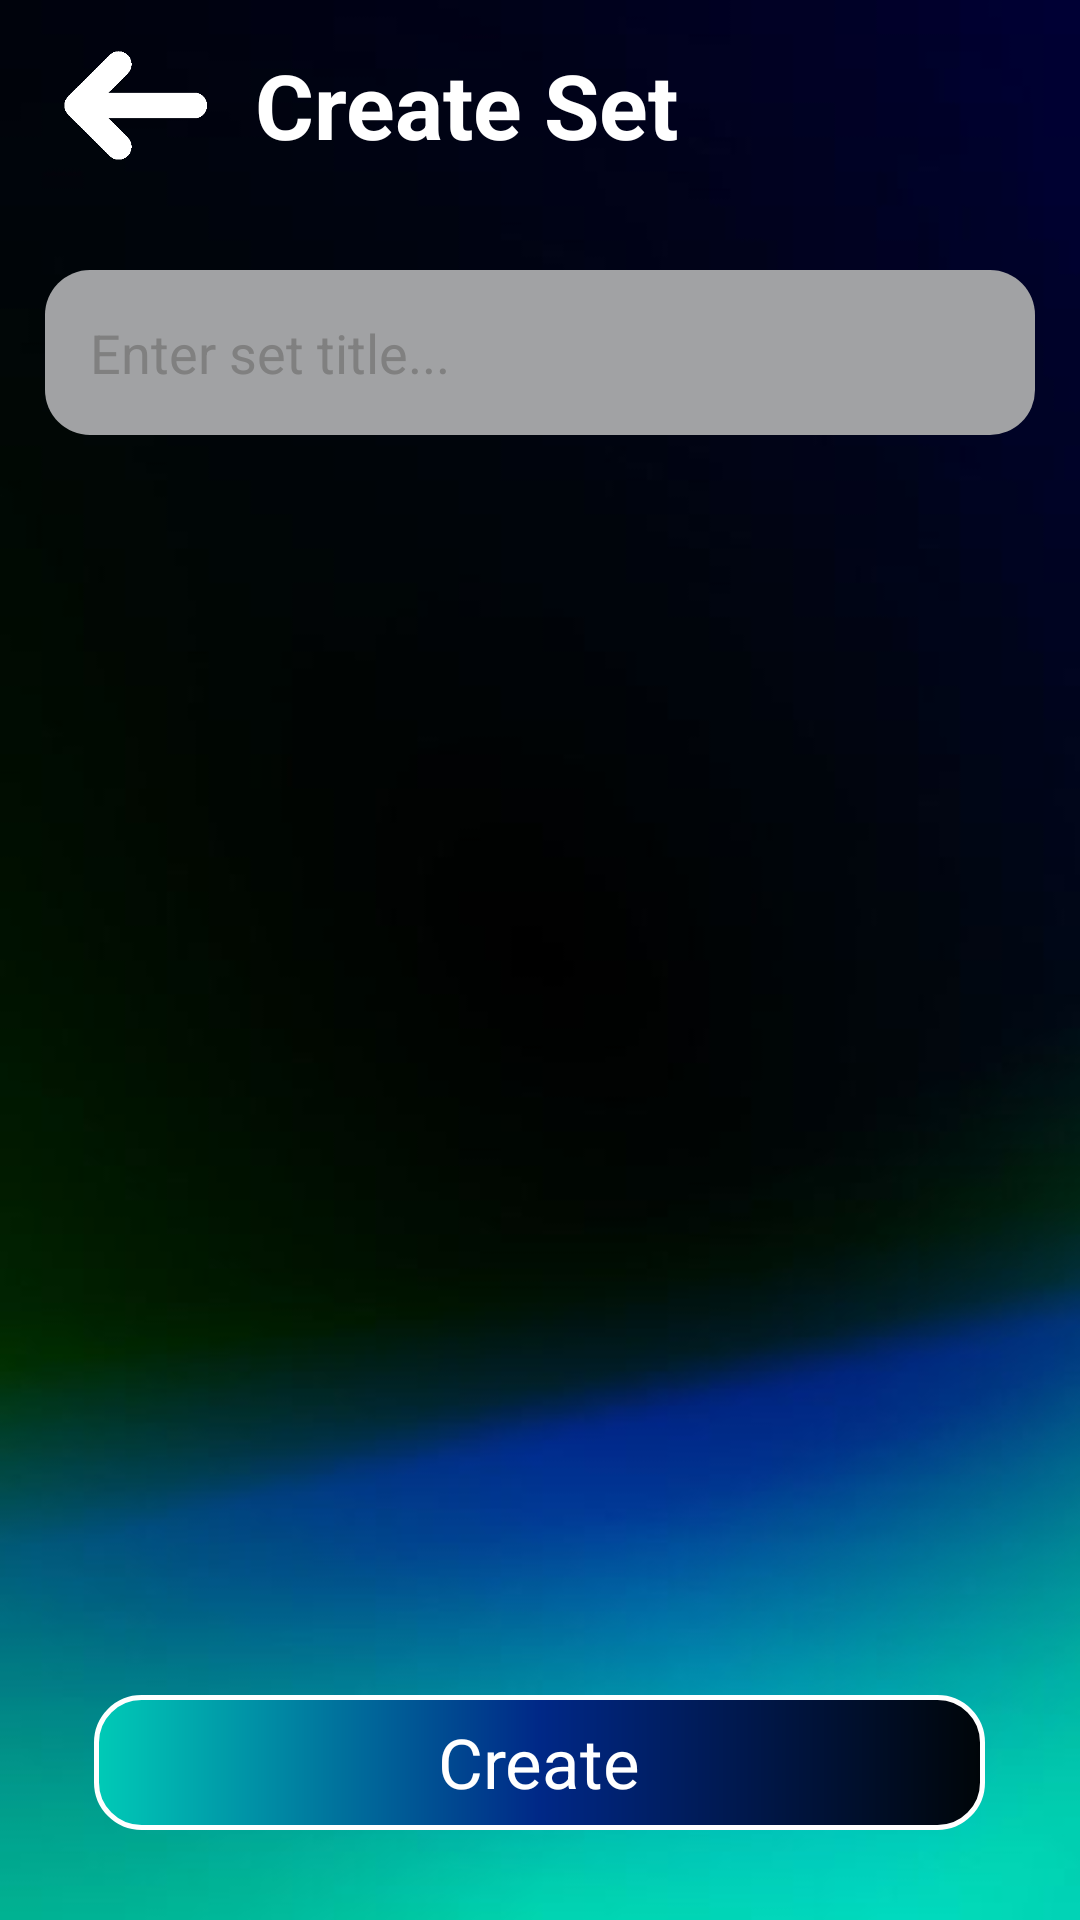

Locate icon controls on the screen. Image size 1080px x 1920px, boxes as detection(x1, y1, x2, y2).
Back: detection(64, 51, 207, 160)
